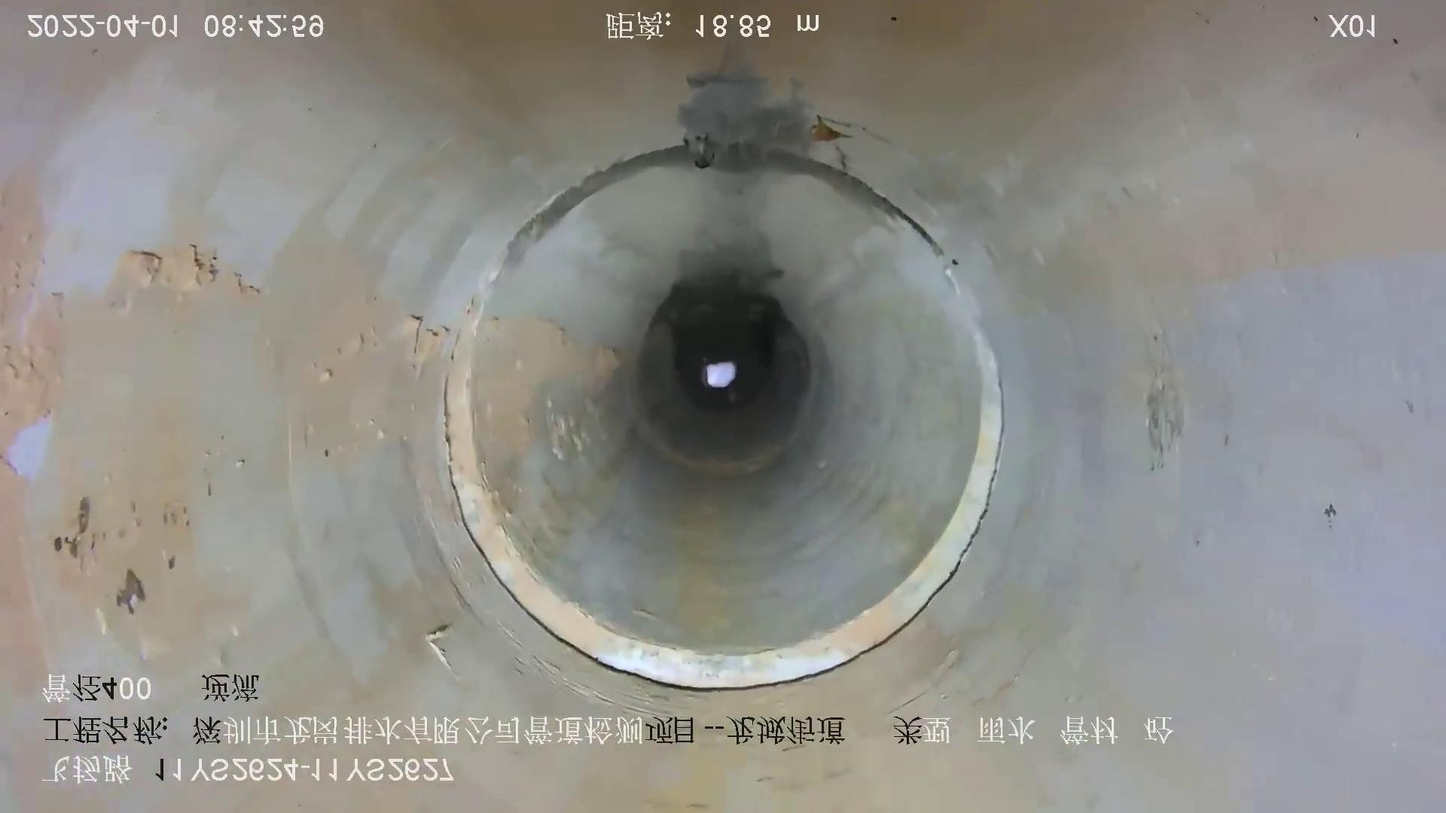CKTJ: (446, 261, 1002, 689)
